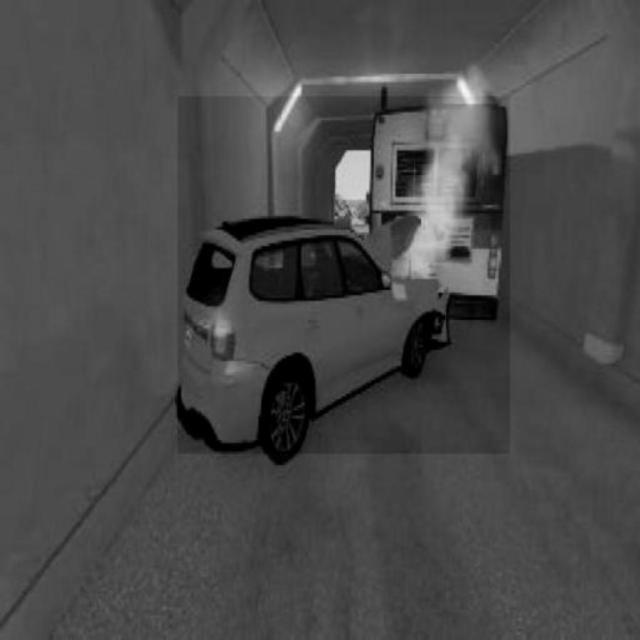accident: (178, 97, 510, 454)
